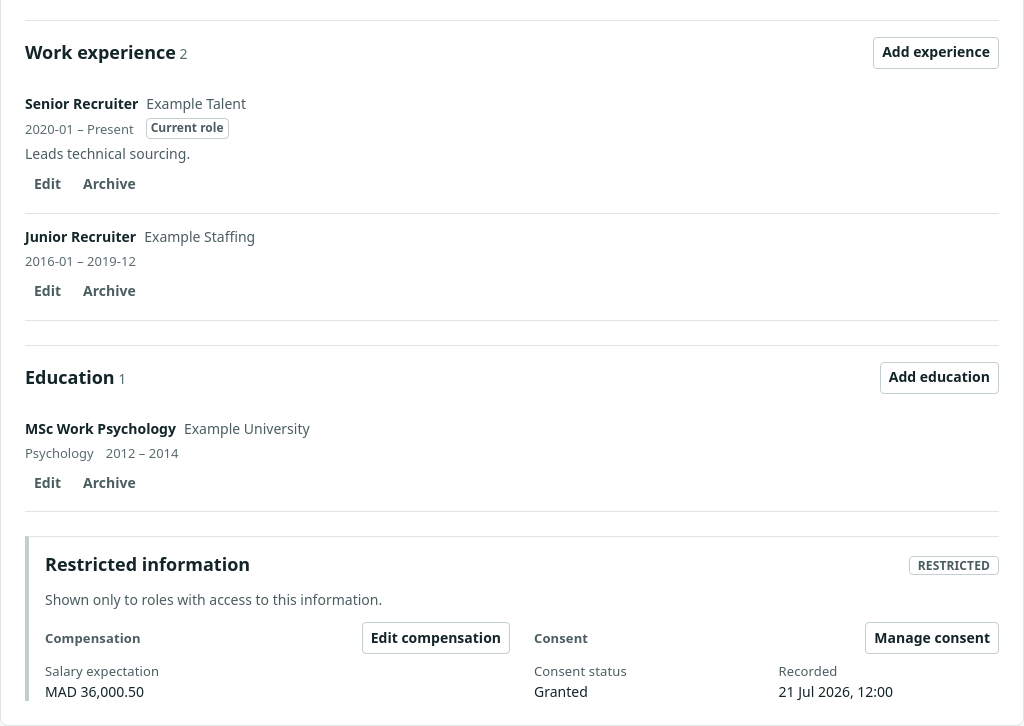
Test: Compensation form › pre-fills the stored cents as major units with explicit labels, and never asks for cents
The image size is (1024, 726).
(page scrolled)
What coordinates should you click on to do the following:
click the button "Edit compensation"
I would click on:
 (436, 638)
Its box is [362, 622, 510, 654].
(page scrolled)
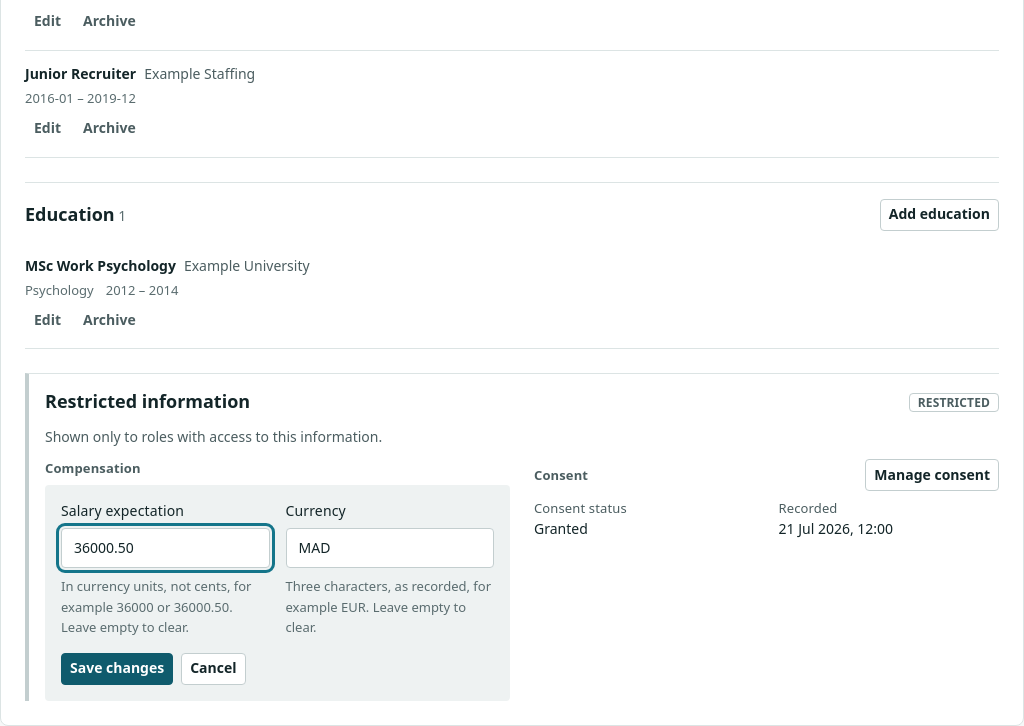
Check: the field labelled "Salary expectation" holds "36000.50", box [61, 528, 270, 568]
Check: the field labelled "Currency" holds "MAD", box [286, 528, 494, 568]
Check: the text "not cents, for example 36000 or 36000.50" is shown, box [61, 577, 252, 636]
